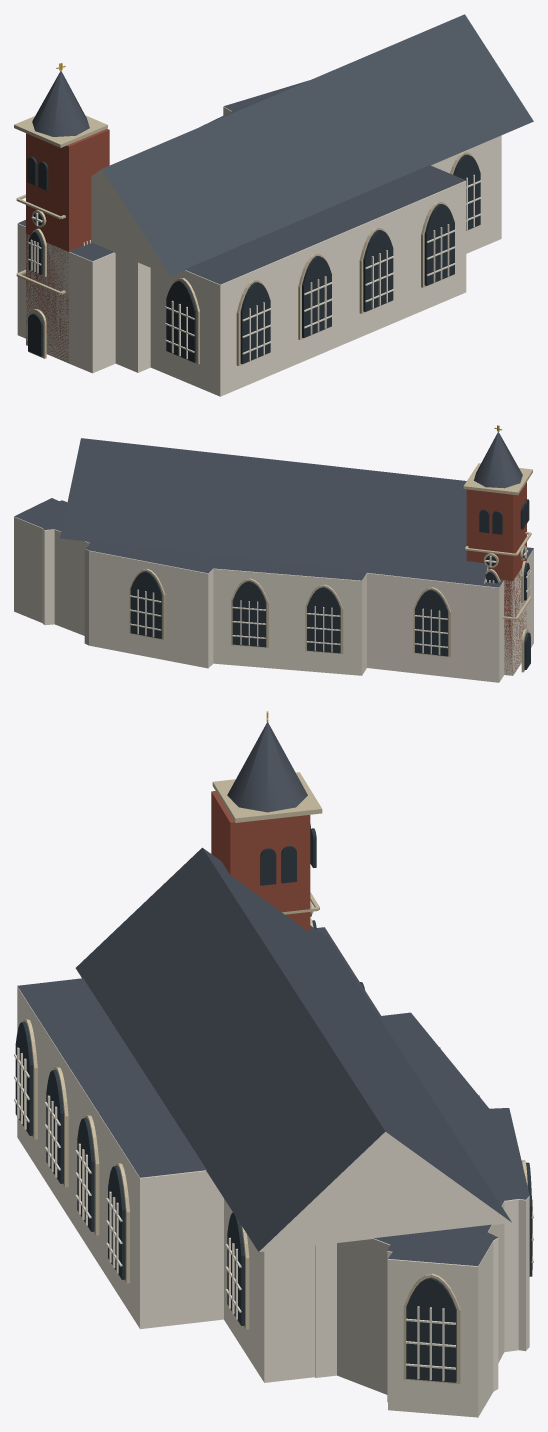
File: english-reformed-church.glb
3 views of the same model, one above another, from view 1: azimuth 30°, elevation 25°; view 2: azimuth 150°, elevation 25°; view 3: azimuth 270°, elevation 25° (orthographic). The views are drawn at different scales.
Visible parts, largest first — view 1: english-reformed-church; view 2: english-reformed-church; view 3: english-reformed-church.
Part boxes in pixels (x1,y1,x2,y2): english-reformed-church: (14,14,533,396); english-reformed-church: (14,425,533,682); english-reformed-church: (14,711,533,1417).
Bounding box in the file's own units: 36.94 × 18.7 × 23.14.
